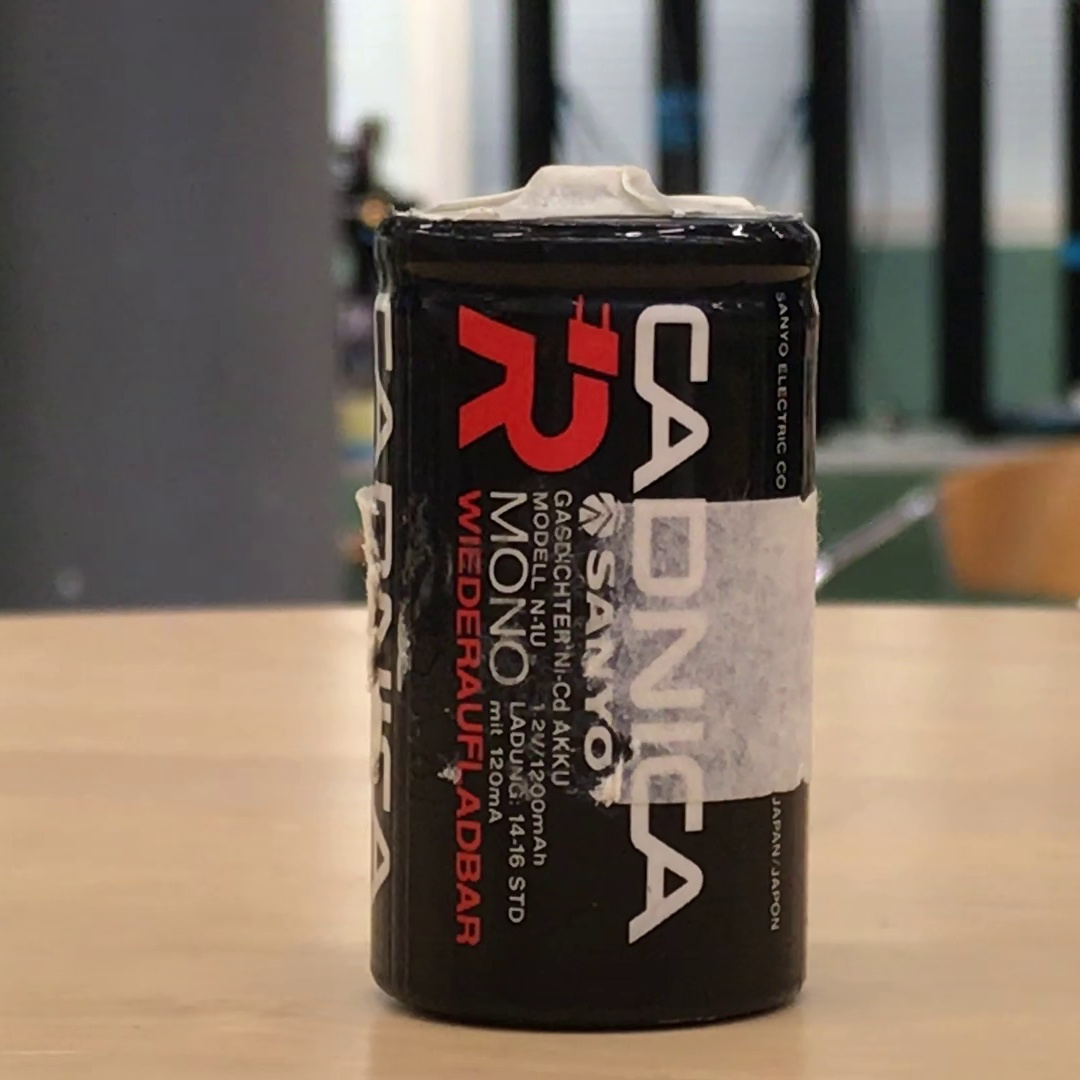keyword: (550, 637, 579, 720)
